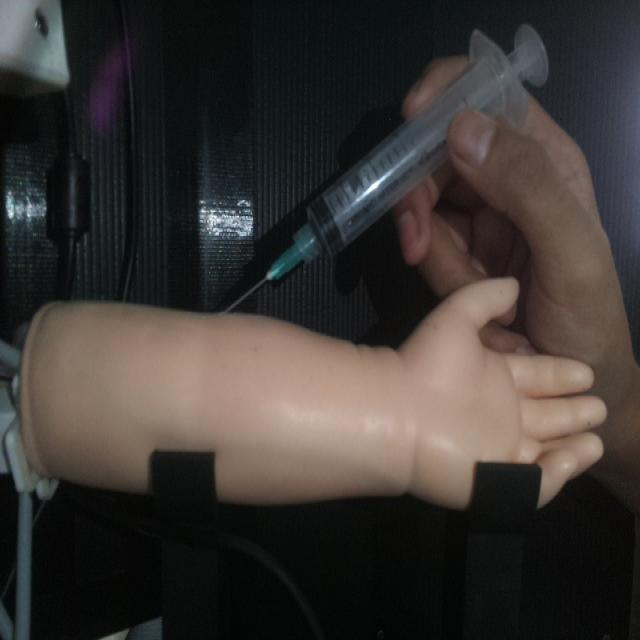Outside: (212, 20, 550, 315)
